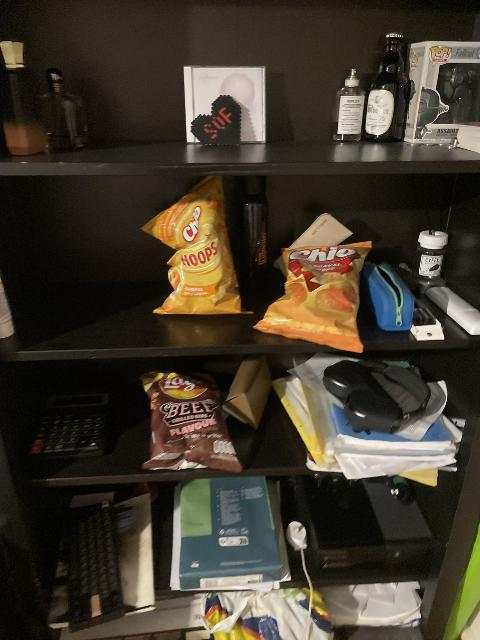Chio Cascaval 125g: (247, 241, 373, 352)
Chio Hula Hoops Cheese 70g: (141, 177, 250, 315)
Lays Beef Grilled Ribs 125g: (142, 369, 246, 470)
